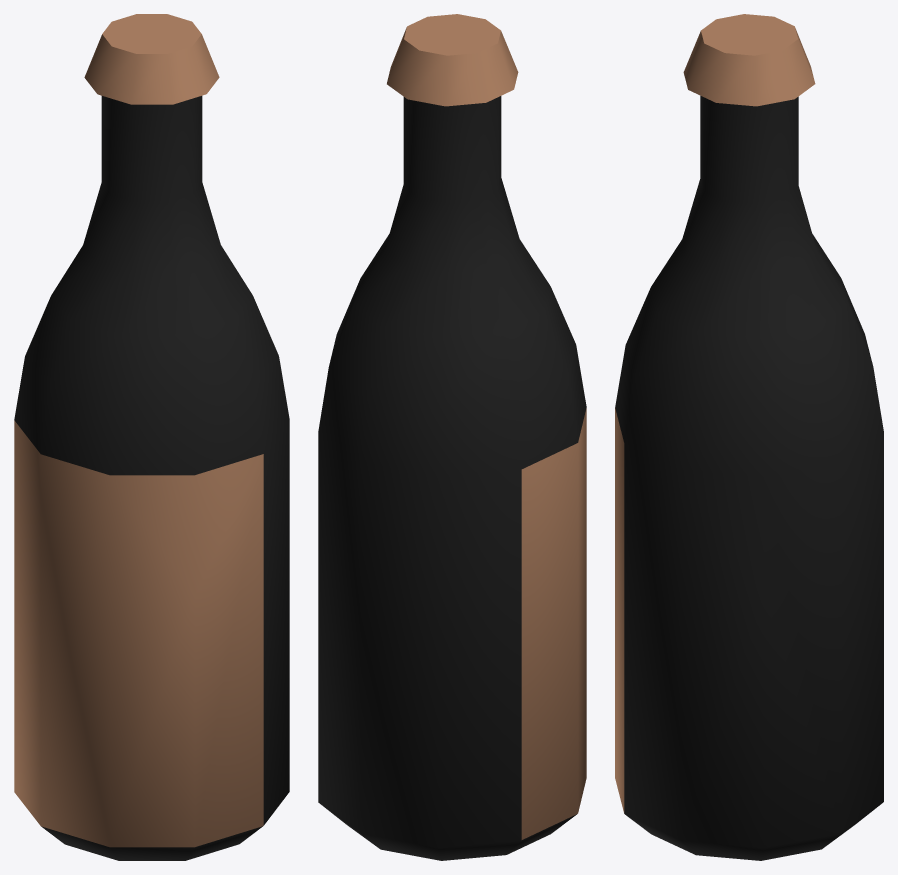
File: quaternius-sushi-restaurant-environment-bottle.glb
3 renders of one model, left to right at view 1: azimuth 30°, elevation 25°; view 2: azimuth 150°, elevation 25°; view 3: azimuth 270°, elevation 25°, orthographic.
Parts seen in each view (by area): view 1: Environment_Bottle; view 2: Environment_Bottle; view 3: Environment_Bottle.
Part boxes in pixels (x1,y1,x2,y2): Environment_Bottle: [14, 14, 289, 860]; Environment_Bottle: [318, 14, 586, 860]; Environment_Bottle: [615, 14, 883, 860].
Bounding box in the file's own units: 0.3086 × 0.974 × 0.3038.
Materials: 1 (1 with a texture image).
